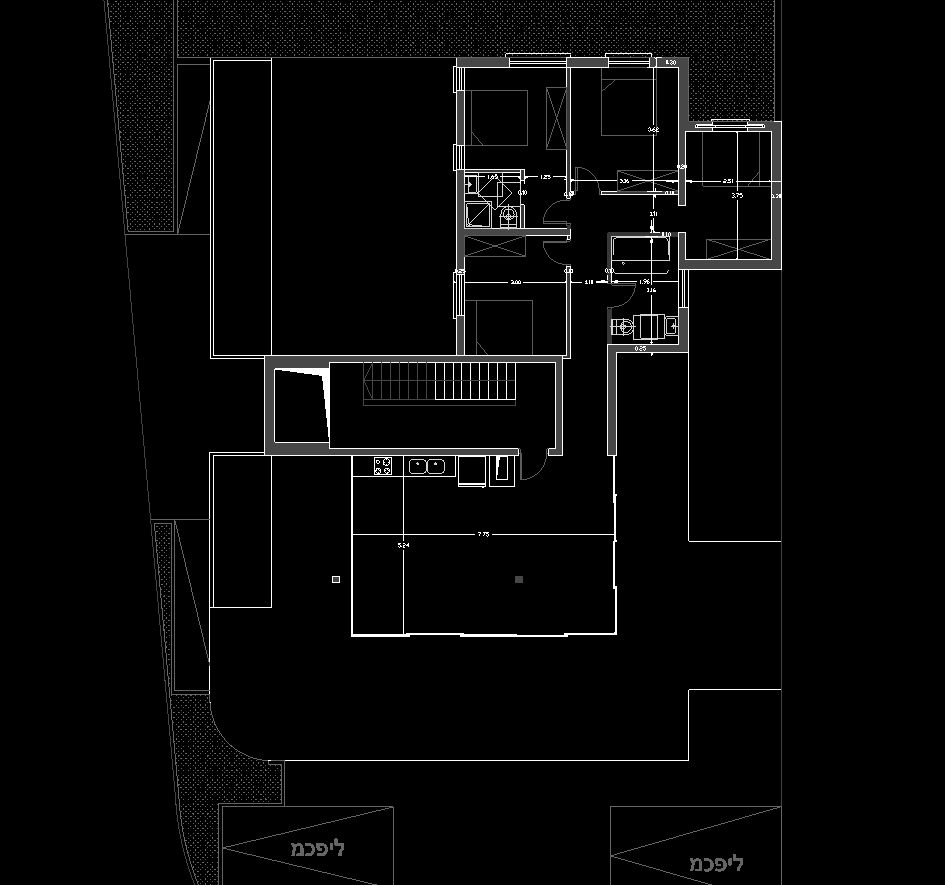window: (508, 53, 567, 67), (607, 53, 650, 67), (452, 272, 465, 316), (452, 66, 465, 91), (452, 144, 465, 169)
